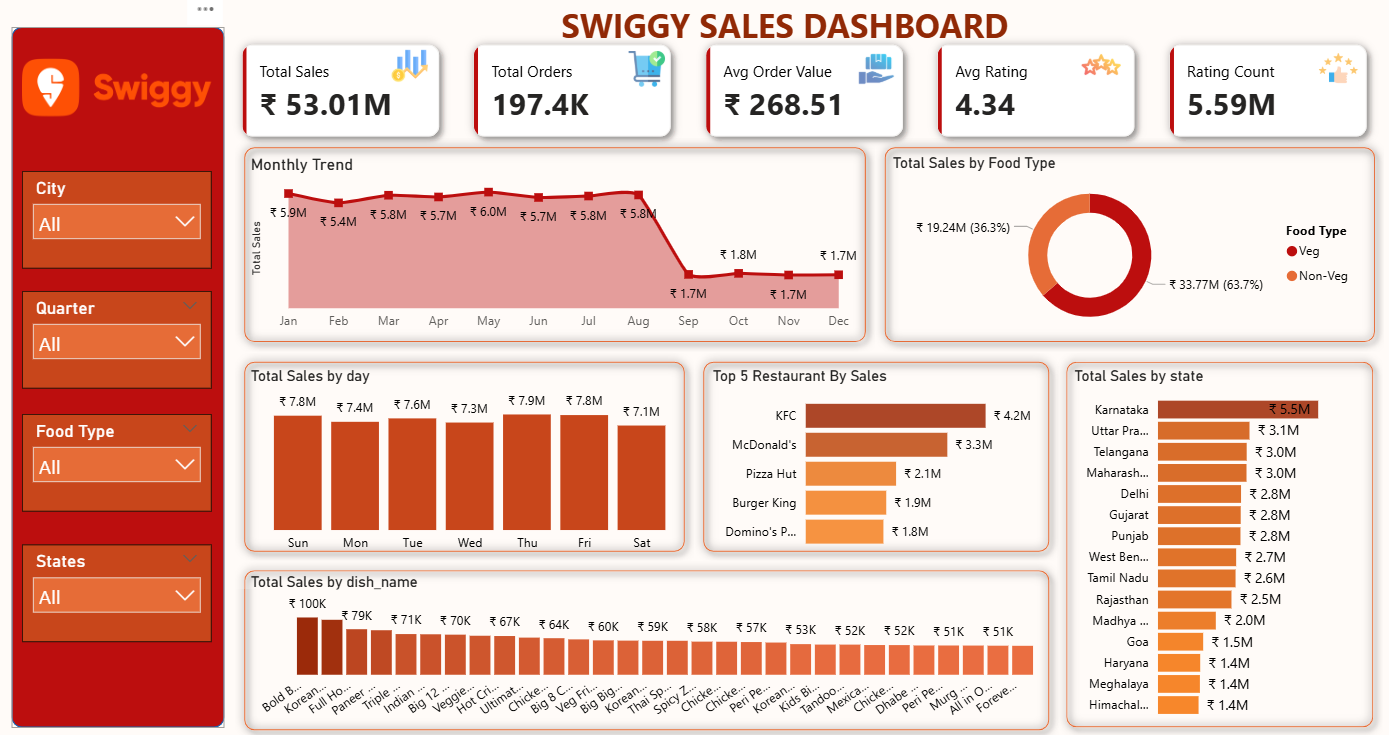

The dashboard page shown, as its layout file describes it:
{"tool":"powerbi","page":{"name":"Page 1","canvas":[1350,720],"ordinal":0},"visuals":[{"type":"shape","box":[13.1,29.1,206.7,679.7],"z":0},{"type":"cardVisual","fields":{"Data":["fact_orders.Total Sales","fact_orders.Total Orders","fact_orders.Avg Order Value","fact_orders.Avg Rating","fact_orders.Rating Count"]},"box":[219.8,29.1,1129.5,123.7],"z":1000},{"type":"image","box":[372.6,49.5,53.9,34.9],"z":2000},{"type":"image","box":[602.6,52.4,53.9,34.9],"z":3000},{"type":"image","box":[825.3,52.4,53.9,34.9],"z":4000},{"type":"image","box":[1041.9,46.4,56.3,38.1],"z":5000},{"type":"image","box":[1268.9,48,62.9,41.4],"z":6000},{"type":"shape","box":[230.3,137.5,621.2,207.1],"z":7000},{"type":"shape","box":[851.4,137.5,493.6,207.1],"z":8000},{"type":"shape","box":[230,345,445.4,202.3],"z":9000},{"type":"shape","box":[675.4,345,353.7,202.3],"z":10000},{"type":"shape","box":[230,547.3,799.1,173.2],"z":11000},{"type":"shape","box":[1027.6,345,315.9,372.6],"z":12000},{"type":"areaChart","title":"Monthly Trend","fields":{"Y":["fact_orders.Total Sales"],"Category":["dim_date.Month"]},"box":[240.2,152.4,599.6,178.9],"z":13000},{"type":"donutChart","fields":{"Y":["fact_orders.Total Sales"],"Category":["dim_dish.Food Type"]},"box":[863,152.4,468.8,178.9],"z":14000},{"type":"barChart","title":"Top 5 Restaurant By Sales","fields":{"Y":["fact_orders.Total Sales"],"Category":["dim_restaurant.restaurant_name"]},"box":[688.5,359.5,329,187.8],"z":15000},{"type":"columnChart","fields":{"Category":["dim_date.day"],"Y":["fact_orders.Total Sales"]},"box":[240.9,358.8,435.2,187.7],"z":16000},{"type":"barChart","fields":{"Category":["dim_location.state"],"Y":["fact_orders.Total Sales"]},"box":[1038.6,359.5,293.2,349.5],"z":17000},{"type":"columnChart","fields":{"Y":["fact_orders.Total Sales"],"Category":["dim_dish.dish_name"]},"box":[240.2,558.2,778.5,150.7],"z":18000},{"type":"image","box":[23.2,54.7,183.9,64.6],"z":19000},{"type":"slicer","fields":{"Values":["dim_location.city"]},"box":[23.2,169,183.9,94.4],"z":20000},{"type":"slicer","fields":{"Values":["dim_date.Quarter"]},"box":[23.2,284.9,183.9,94.4],"z":20001},{"type":"slicer","fields":{"Values":["dim_dish.Food Type"]},"box":[23.2,404.2,183.9,94.4],"z":20002},{"type":"slicer","fields":{"Values":["dim_location.state"]},"box":[23.2,531.7,183.9,94.4],"z":20003},{"type":"textbox","box":[389.3,0,750.4,54.7],"z":20004}]}

Visuals, with their boxes in screenshot pixels (x1, y1, x2, y2), scaled from the page's 1350x720 canvas onto the 1389x735 screenshot:
shape: l=13, t=30, r=226, b=724
cardVisual - fact_orders.Total Sales x fact_orders.Total Orders: l=226, t=30, r=1388, b=156
image: l=383, t=51, r=439, b=86
image: l=620, t=53, r=675, b=89
image: l=849, t=53, r=905, b=89
image: l=1072, t=47, r=1130, b=86
image: l=1306, t=49, r=1370, b=91
shape: l=237, t=140, r=876, b=352
shape: l=876, t=140, r=1384, b=352
shape: l=237, t=352, r=695, b=559
shape: l=695, t=352, r=1059, b=559
shape: l=237, t=559, r=1059, b=734
shape: l=1057, t=352, r=1382, b=733
"Monthly Trend" areaChart: l=247, t=156, r=864, b=338
donutChart - fact_orders.Total Sales x dim_dish.Food Type: l=888, t=156, r=1370, b=338
"Top 5 Restaurant By Sales" barChart: l=708, t=367, r=1047, b=559
columnChart - dim_date.day x fact_orders.Total Sales: l=248, t=366, r=696, b=558
barChart - dim_location.state x fact_orders.Total Sales: l=1069, t=367, r=1370, b=724
columnChart - fact_orders.Total Sales x dim_dish.dish_name: l=247, t=570, r=1048, b=724
image: l=24, t=56, r=213, b=122
slicer - dim_location.city: l=24, t=173, r=213, b=269
slicer - dim_date.Quarter: l=24, t=291, r=213, b=387
slicer - dim_dish.Food Type: l=24, t=413, r=213, b=509
slicer - dim_location.state: l=24, t=543, r=213, b=639
textbox: l=401, t=0, r=1173, b=56
